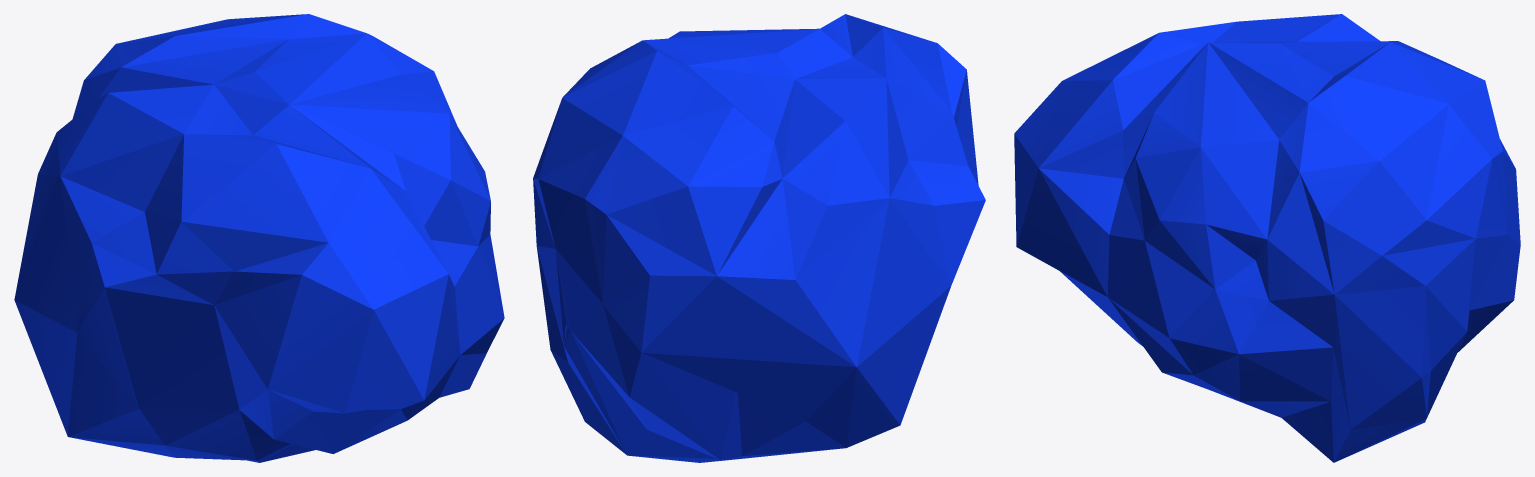
Rendered from SM_emissive_rock_03.fbx.
The picture shows the model from 3 angles, left to right: view 1: azimuth 30°, elevation 25°; view 2: azimuth 150°, elevation 25°; view 3: azimuth 270°, elevation 25°; orthographic projection. The views are drawn at different scales.
Parts seen in each view (by area): view 1: emissive_rock_03; view 2: emissive_rock_03; view 3: emissive_rock_03.
Part boxes in pixels (x1,y1,x2,y2): emissive_rock_03: [14, 14, 504, 462]; emissive_rock_03: [533, 14, 985, 462]; emissive_rock_03: [1014, 14, 1520, 462].
Size of the model in its own units: 374 by 380 by 462.
